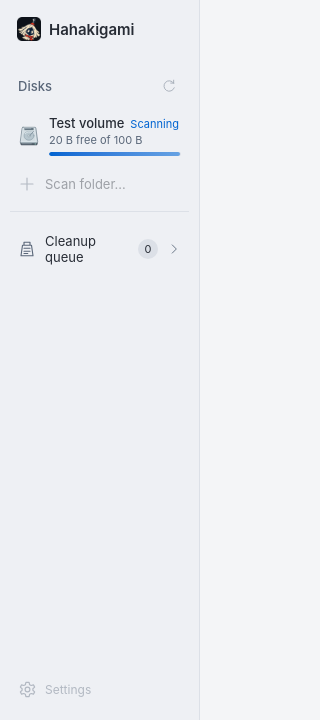
Test case: keeps disks enabled while a scan runs unless the session is blocked
The width and height of the screenshot is (320, 720).
Click the button with class "disk-nav" at coordinates (100, 136), box [10, 106, 189, 165]
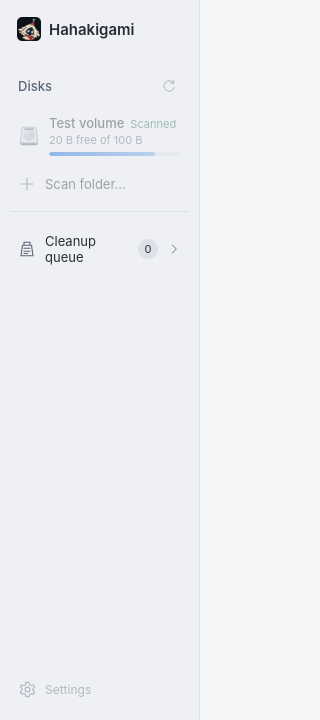
Expected: the button with class "disk-nav" is disabled, [10, 106, 189, 165]
